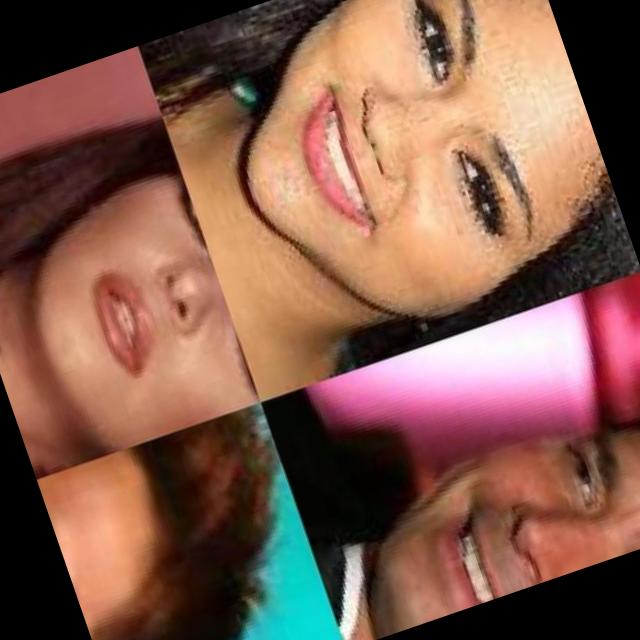bareface: (208, 0, 626, 346)
